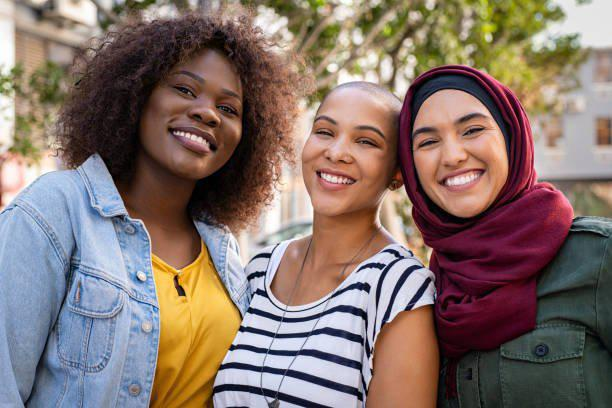Sober: (410, 100, 502, 216), (157, 54, 241, 172), (307, 97, 388, 210)
